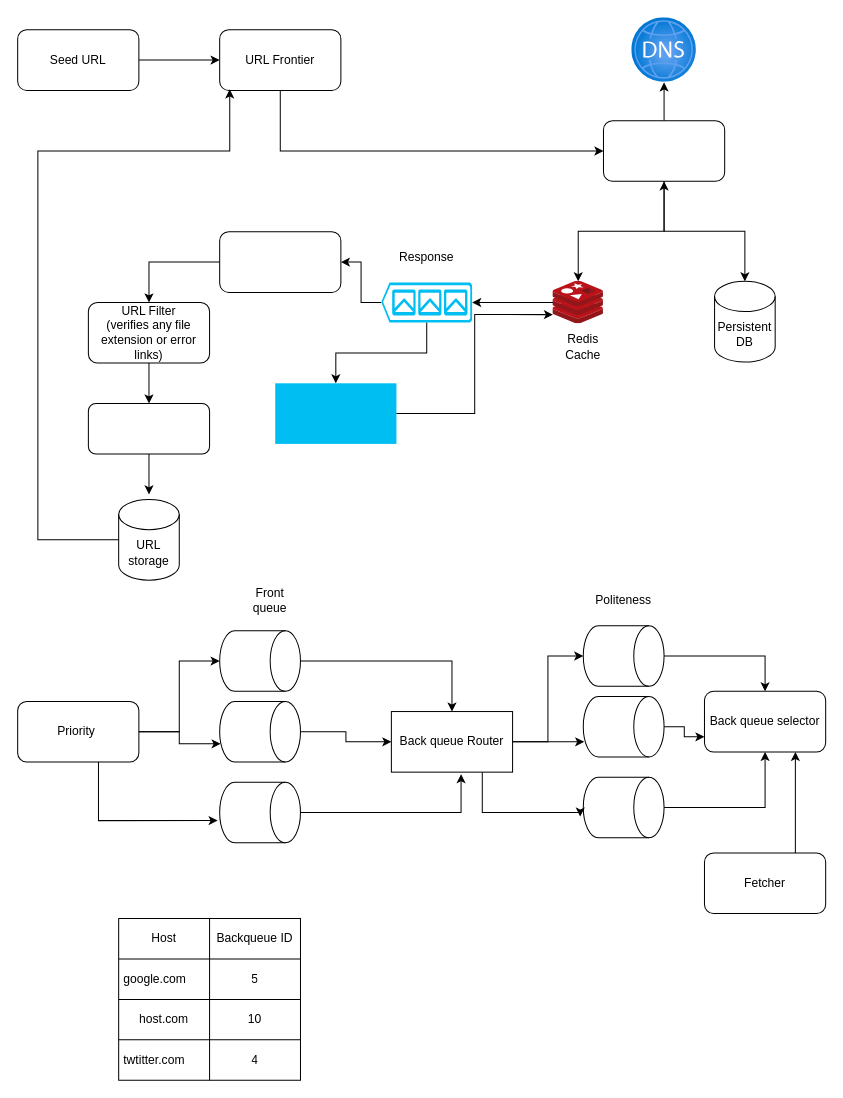
Image size: 843x1098. Some labels were removed from this diagram. Each missing label, with the box of its shape:
Duplicate Detection: (275, 383, 396, 443)
Fetcher / Render(Worker): (602, 120, 725, 181)
URL Extaractor: (219, 231, 341, 292)
URL loader: (87, 402, 210, 454)
